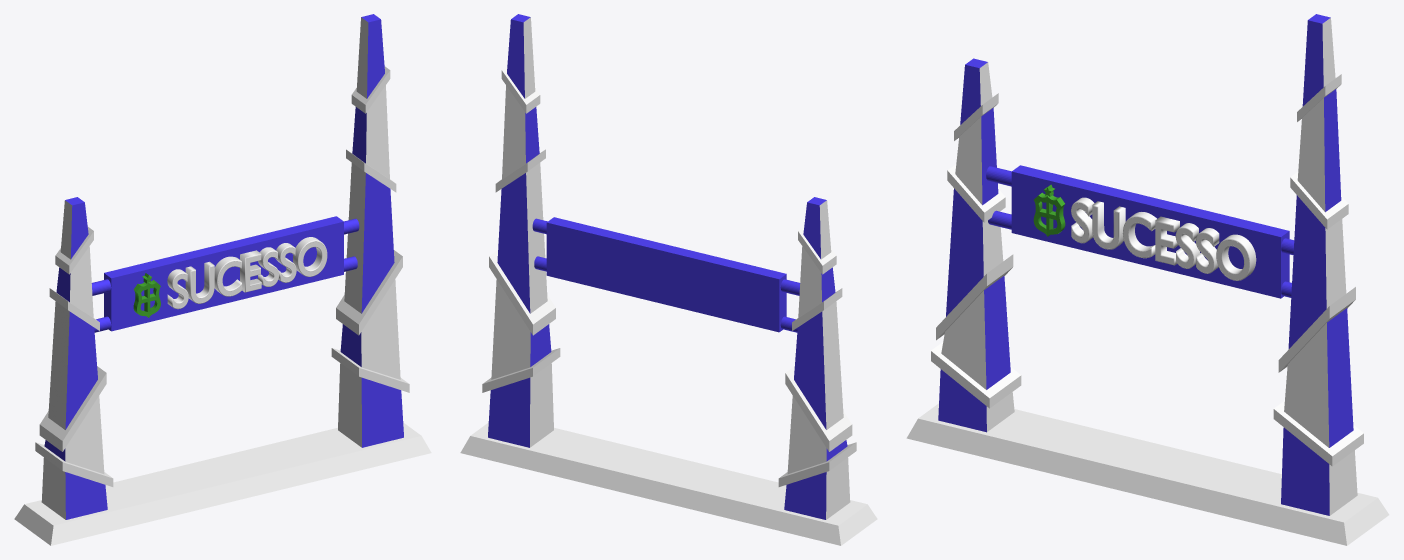
The model's file is SUCESSO.fbx.
The picture shows the model from 3 angles, left to right: view 1: azimuth 30°, elevation 25°; view 2: azimuth 150°, elevation 25°; view 3: azimuth 330°, elevation 25°; orthographic projection. The views are drawn at different scales.
Parts seen in each view (by area): view 1: Colunas, Base, Placa, Tamboril, Brasão, Suporte de apoio; view 2: Colunas, Base, Placa, Suporte de apoio; view 3: Colunas, Base, Placa, Tamboril, Brasão, Suporte de apoio.
Part boxes in pixels (x1=…): Colunas: x1=35, y1=14, x2=409, y2=519; Base: x1=14, y1=422, x2=431, y2=545; Placa: x1=104, y1=216, x2=343, y2=331; Tamboril: x1=167, y1=237, x2=327, y2=309; Brasão: x1=133, y1=273, x2=160, y2=317; Suporte de apoio: x1=91, y1=218, x2=359, y2=332; Colunas: x1=482, y1=14, x2=856, y2=519; Base: x1=460, y1=422, x2=877, y2=545; Placa: x1=546, y1=217, x2=786, y2=332; Suporte de apoio: x1=532, y1=218, x2=800, y2=332; Colunas: x1=931, y1=14, x2=1363, y2=515; Base: x1=906, y1=403, x2=1389, y2=545; Placa: x1=1011, y1=165, x2=1289, y2=298; Tamboril: x1=1071, y1=197, x2=1256, y2=280; Brasão: x1=1033, y1=184, x2=1065, y2=236; Suporte de apoio: x1=986, y1=166, x2=1294, y2=297.
Size of the model in its own units: 0.018 by 0.0195 by 0.003.
